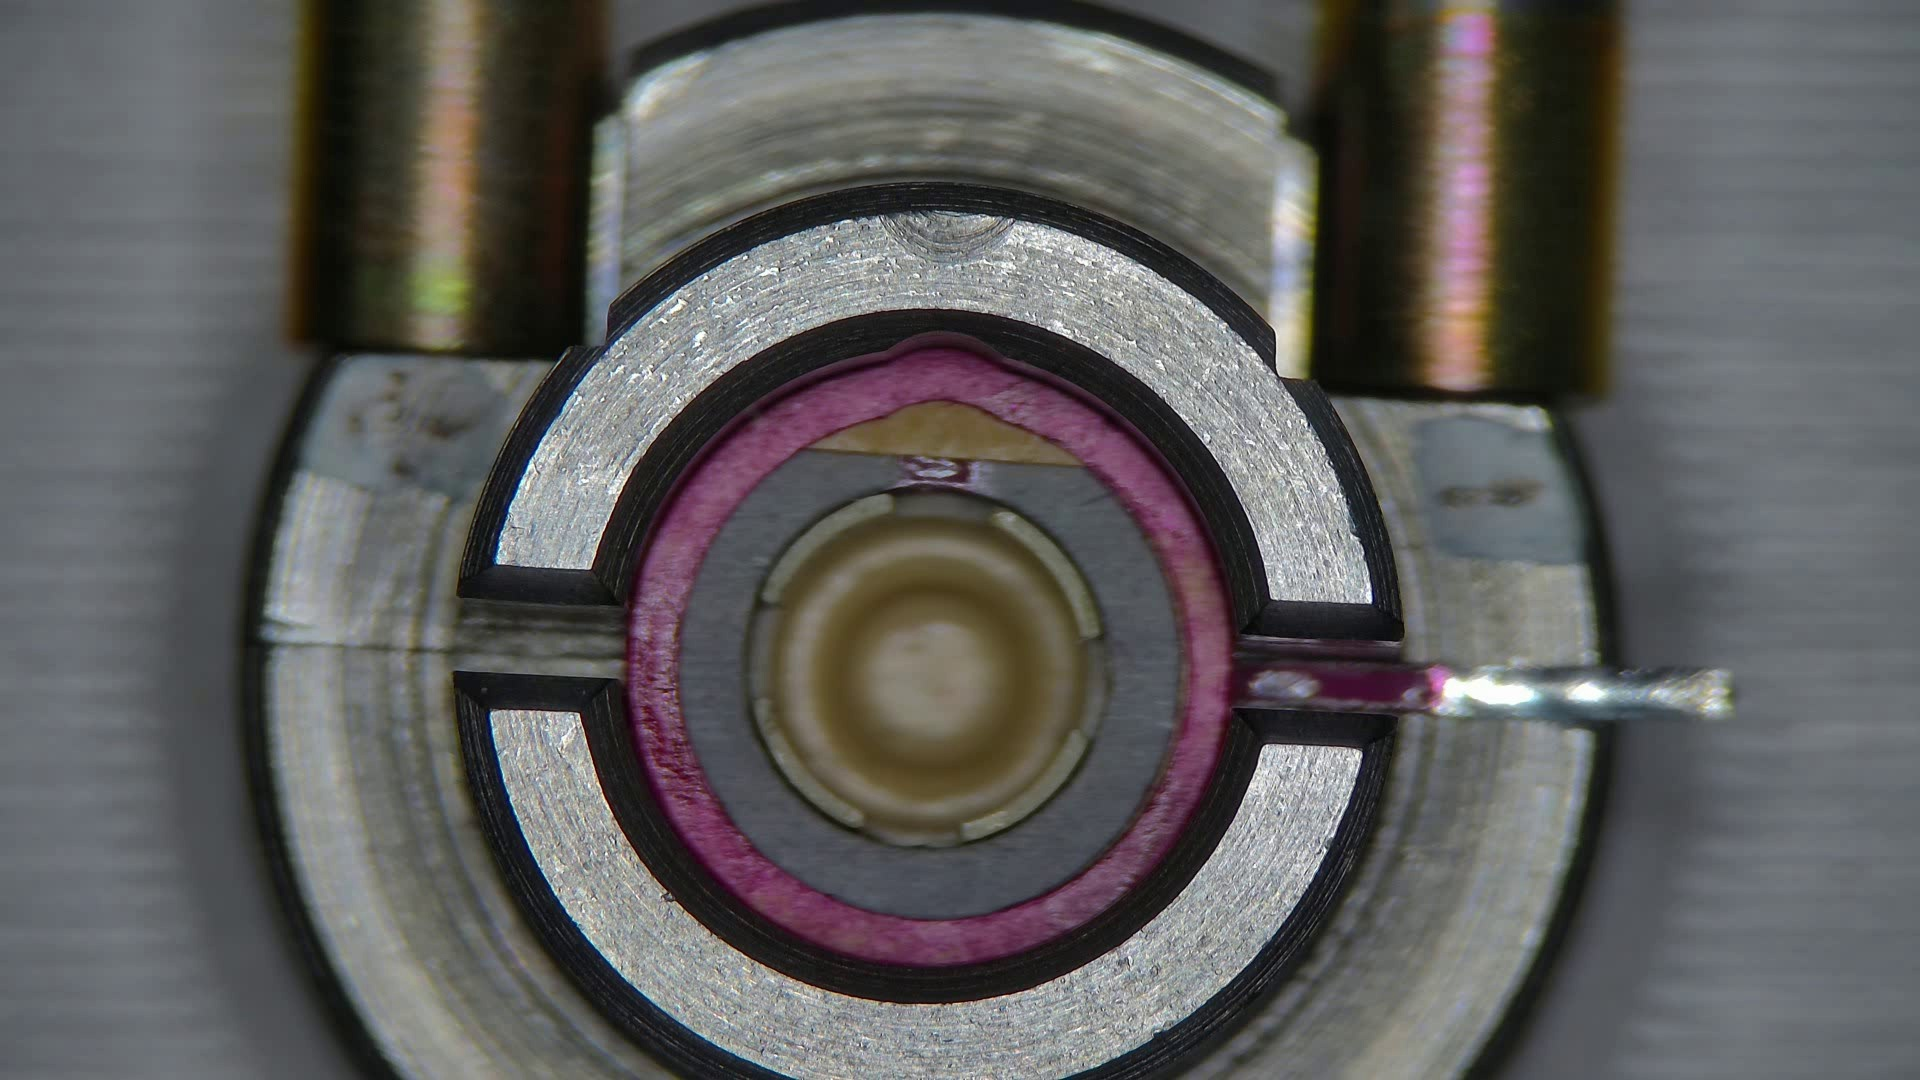GreyOring: (628, 347, 1234, 967)
YellowOring: (680, 458, 1182, 916)
redOring: (808, 404, 1080, 464)
